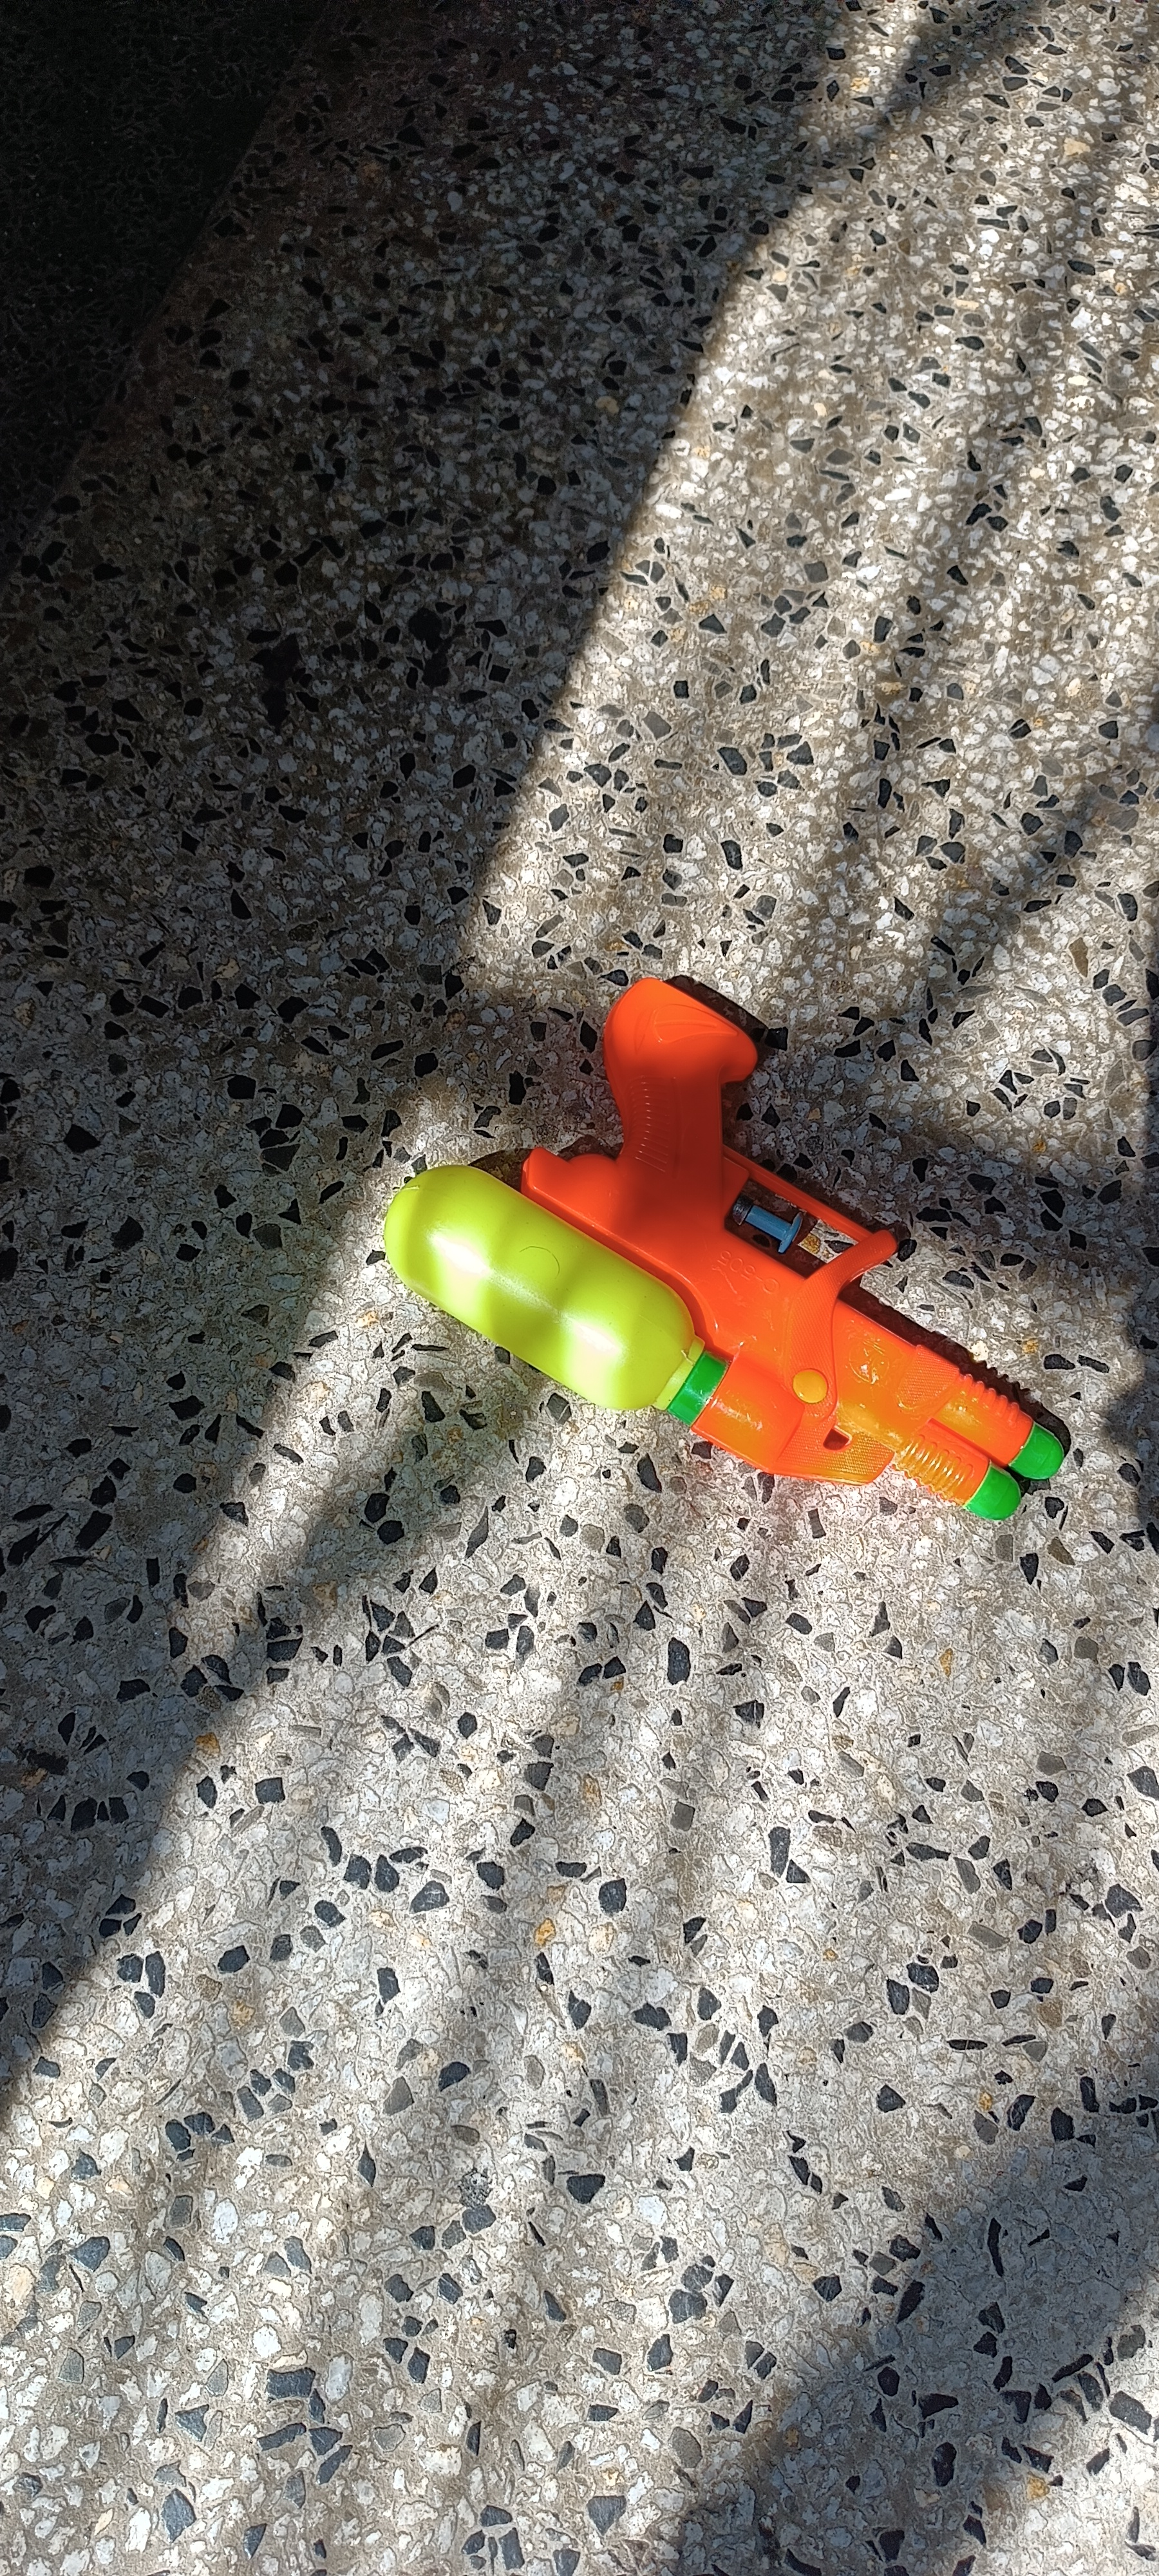Water Gun: (379, 976, 1064, 1523)
